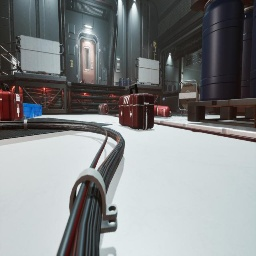EmergencyPhone ,: (70, 58, 73, 68)
FireExtinguisher ]: (154, 105, 173, 118), (80, 79, 85, 83), (42, 73, 50, 75)
FirstAidBox ,: (119, 84, 154, 130), (0, 82, 24, 121)
NitrogenTank ,: (98, 103, 109, 115)
SafetySwitchPanel ,: (116, 56, 121, 73)
